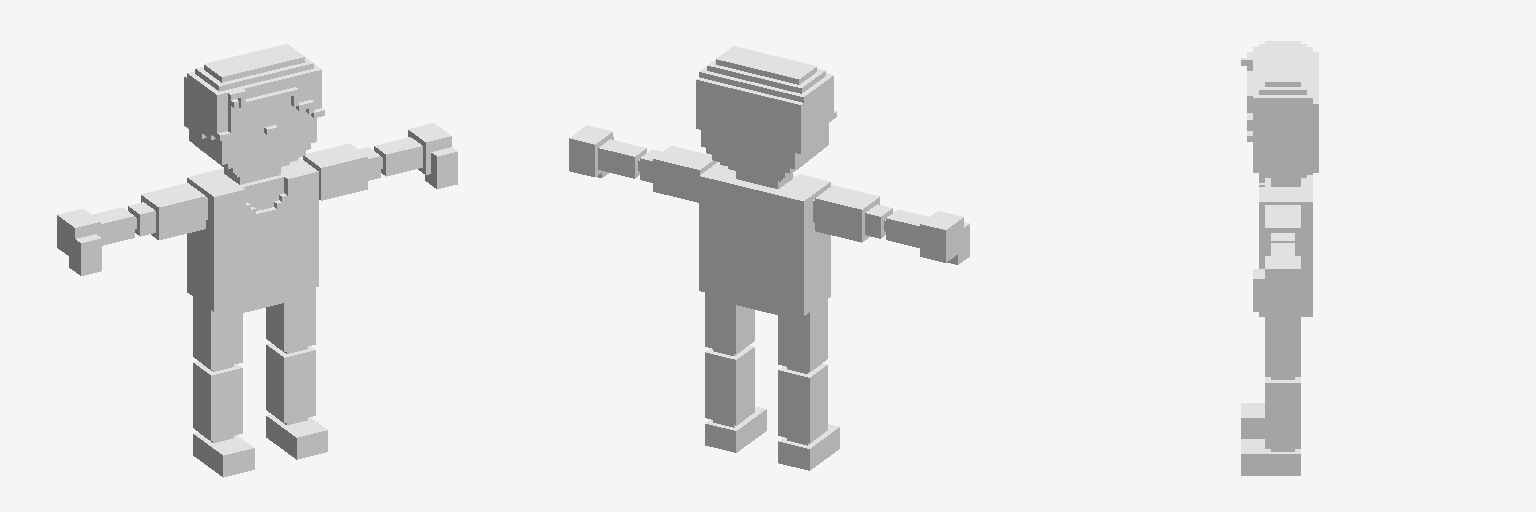
File: SCHOOL STUDENT.obj
The picture shows the model from 3 angles: view 1: azimuth 30°, elevation 25°; view 2: azimuth 150°, elevation 25°; view 3: azimuth 270°, elevation 25°; orthographic projection.
Visible parts, largest first — view 1: SCHOOL STUDENT; view 2: SCHOOL STUDENT; view 3: SCHOOL STUDENT.
Part boxes in pixels (left/top/right/bottom): SCHOOL STUDENT: left=57, top=44, right=457, bottom=477; SCHOOL STUDENT: left=569, top=46, right=969, bottom=470; SCHOOL STUDENT: left=1241, top=41, right=1318, bottom=475.
Size of the model in its own units: 72 by 71 by 13.